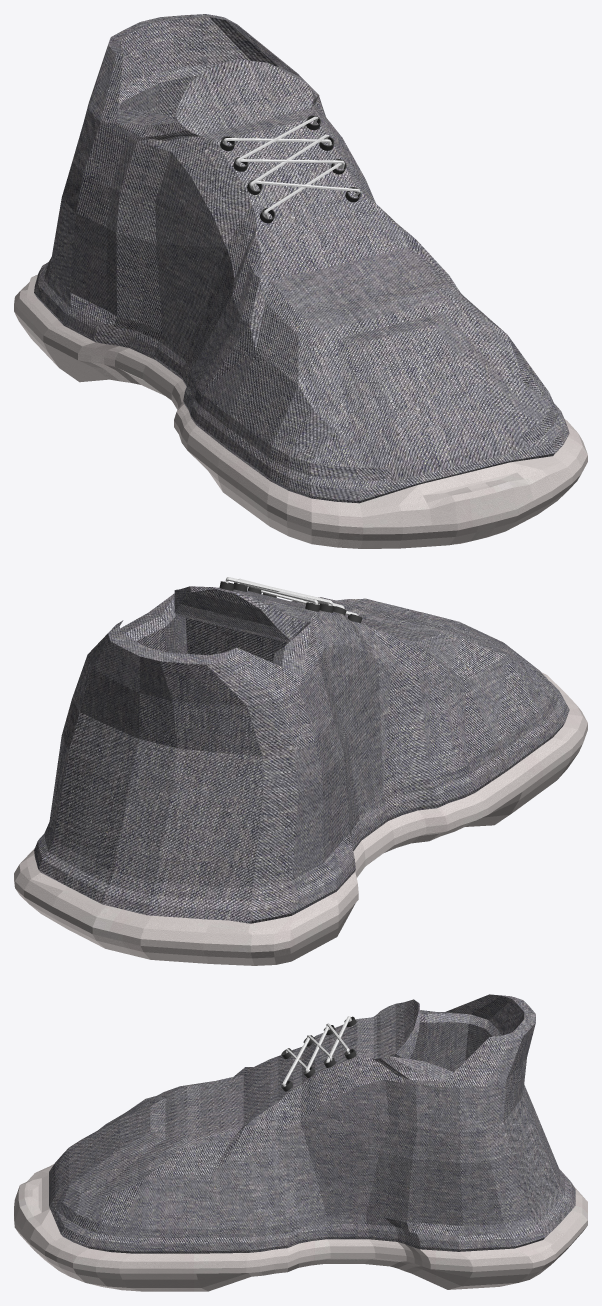
Rendered from zapato1.fbx.
3 views of the same model, one above another, from view 1: azimuth 30°, elevation 25°; view 2: azimuth 150°, elevation 25°; view 3: azimuth 270°, elevation 25° (orthographic). The views are drawn at different scales.
Parts seen in each view (by area): view 1: shoe1:Mesh; view 2: shoe1:Mesh; view 3: shoe1:Mesh.
Part boxes in pixels (left/top/right/bottom): shoe1:Mesh: left=14, top=14, right=587, bottom=548; shoe1:Mesh: left=14, top=577, right=587, bottom=965; shoe1:Mesh: left=14, top=994, right=587, bottom=1291.
Bounding box in the file's own units: 2.16 × 2.05 × 4.57.
Materials: 4 (3 with a texture image).
